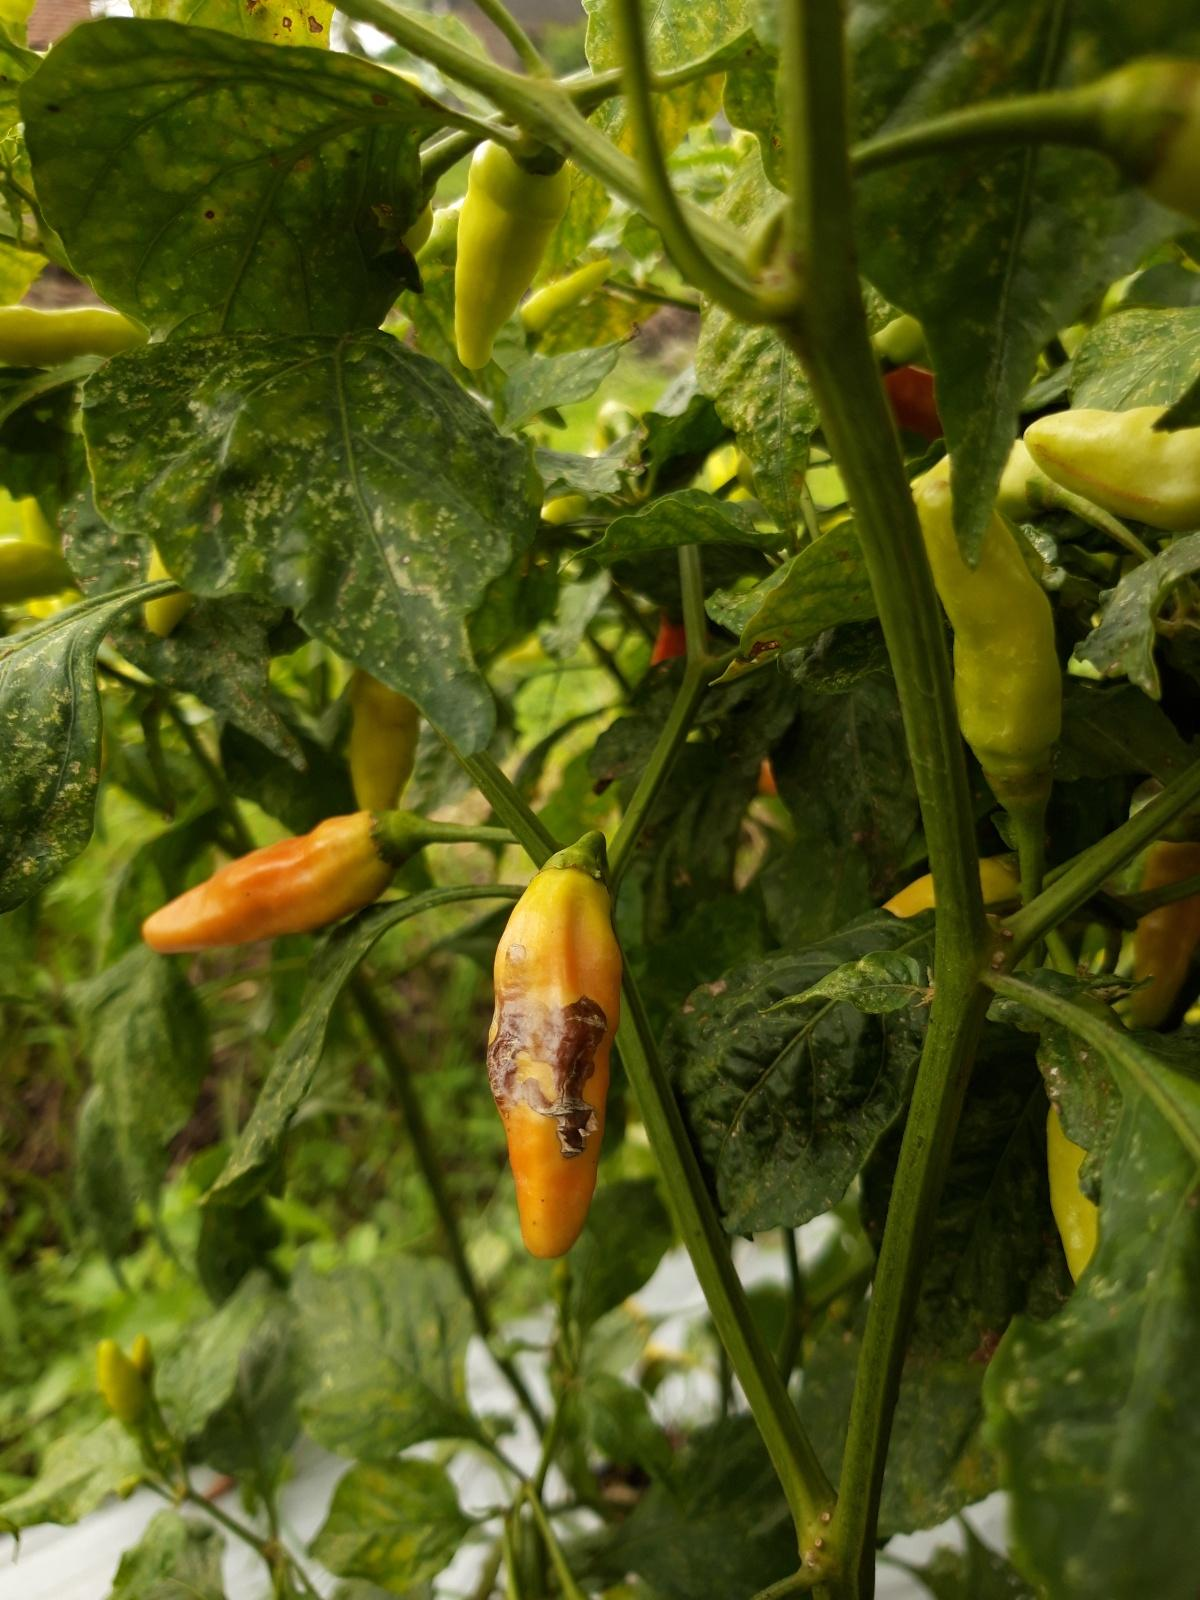cabai_normal: (916, 479, 1064, 815), (142, 810, 417, 954), (455, 139, 568, 372), (1024, 404, 1200, 527), (517, 257, 613, 338), (95, 1337, 151, 1440)
lalat_buah: (487, 848, 621, 1257)
